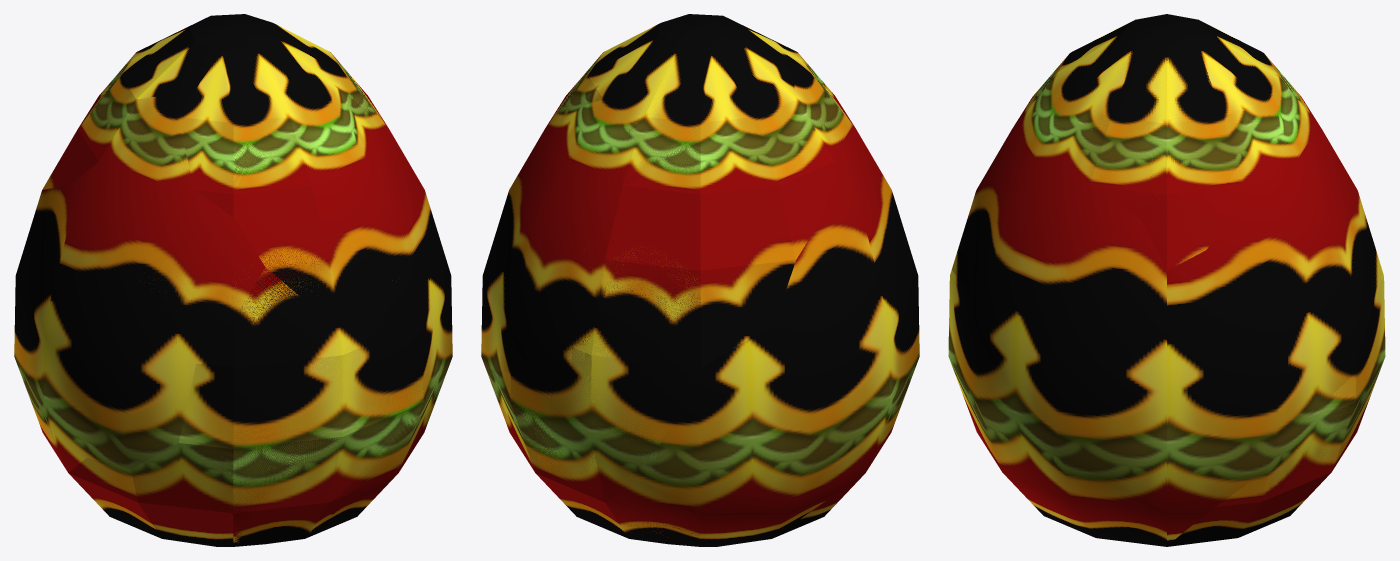
File: MajinEgg.gltf
3 renders of one model, left to right at view 1: azimuth 30°, elevation 25°; view 2: azimuth 150°, elevation 25°; view 3: azimuth 270°, elevation 25°, orthographic.
Parts seen in each view (by area): view 1: MajinEgg, MajinEggPiece4, MajinEggPiece1, MajinEggPiece11, MajinEggPiece3, MajinEggPiece8, MajinEggPiece2; view 2: MajinEgg, MajinEggPiece8, MajinEggPiece10, MajinEggPiece3, MajinEggPiece2, MajinEggPiece7, MajinEggPiece11, MajinEggPiece1, MajinEggPiece9; view 3: MajinEgg, MajinEggPiece2, MajinEggPiece10, MajinEggPiece3, MajinEggPiece1, MajinEggPiece4.
Part boxes in pixels (x1=…): MajinEgg: x1=14, y1=14, x2=452, y2=546; MajinEggPiece4: x1=178, y1=267, x2=425, y2=514; MajinEggPiece1: x1=177, y1=25, x2=350, y2=328; MajinEggPiece11: x1=68, y1=443, x2=320, y2=546; MajinEggPiece3: x1=118, y1=16, x2=232, y2=99; MajinEggPiece8: x1=42, y1=74, x2=136, y2=189; MajinEggPiece2: x1=234, y1=14, x2=388, y2=128; MajinEgg: x1=481, y1=14, x2=919, y2=546; MajinEggPiece8: x1=598, y1=99, x2=834, y2=367; MajinEggPiece10: x1=489, y1=307, x2=696, y2=538; MajinEggPiece3: x1=623, y1=24, x2=797, y2=185; MajinEggPiece2: x1=551, y1=14, x2=699, y2=118; MajinEggPiece7: x1=598, y1=186, x2=639, y2=306; MajinEggPiece11: x1=773, y1=396, x2=904, y2=538; MajinEggPiece1: x1=701, y1=16, x2=844, y2=110; MajinEggPiece9: x1=605, y1=446, x2=699, y2=546; MajinEgg: x1=948, y1=25, x2=1383, y2=546; MajinEggPiece2: x1=1089, y1=26, x2=1263, y2=270; MajinEggPiece10: x1=1167, y1=234, x2=1385, y2=546; MajinEggPiece3: x1=1136, y1=14, x2=1319, y2=126; MajinEggPiece1: x1=1012, y1=19, x2=1166, y2=128; MajinEggPiece4: x1=952, y1=249, x2=1017, y2=341.
Size of the model in its own units: 1.19 by 1.5 by 1.19.
Materials: 1 (1 with a texture image).
